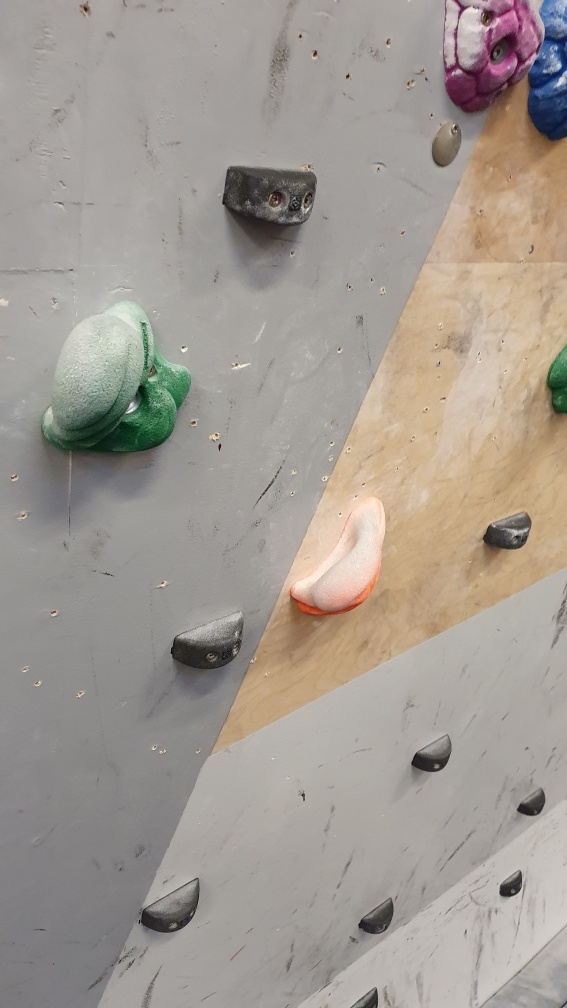Hand Start: (430, 118, 464, 170)
Jug: (39, 299, 194, 458), (431, 1, 545, 116), (284, 495, 388, 619)
Pinch: (219, 160, 314, 228), (168, 608, 247, 670), (140, 880, 204, 937), (485, 510, 532, 556), (410, 735, 455, 781), (357, 896, 396, 936), (516, 784, 547, 818), (501, 871, 525, 896)
